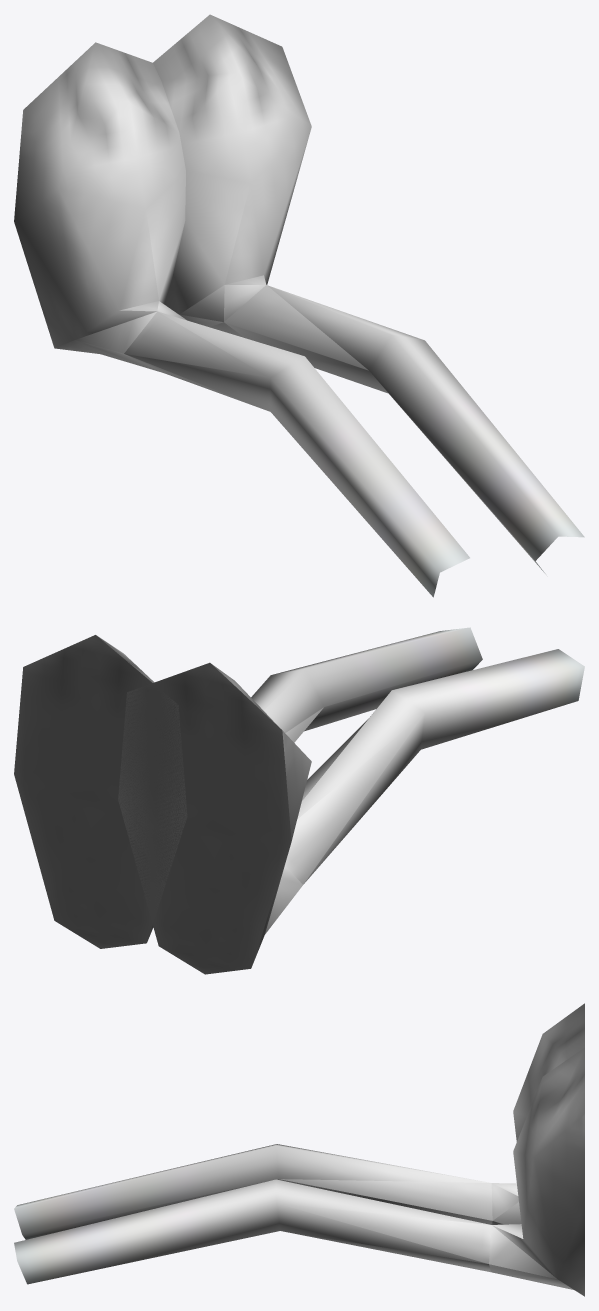
Rendered from legs_l_500.glb.
3 renders of one model, top to bottom at view 1: azimuth 30°, elevation 25°; view 2: azimuth 150°, elevation 25°; view 3: azimuth 270°, elevation 25°, orthographic. The views are drawn at different scales.
Visible parts, largest first — view 1: feet, legs; view 2: feet, legs; view 3: legs, feet.
Part boxes in pixels (left/top/right/bottom): feet: left=14, top=14, right=311, bottom=372; legs: left=124, top=285, right=584, bottom=597; feet: left=14, top=635, right=311, bottom=974; legs: left=251, top=627, right=584, bottom=884; legs: left=14, top=1144, right=492, bottom=1284; feet: left=489, top=1003, right=584, bottom=1296.
Size of the model in its own units: 1.14 by 1.23 by 2.57.
Materials: 2 (2 with a texture image).
